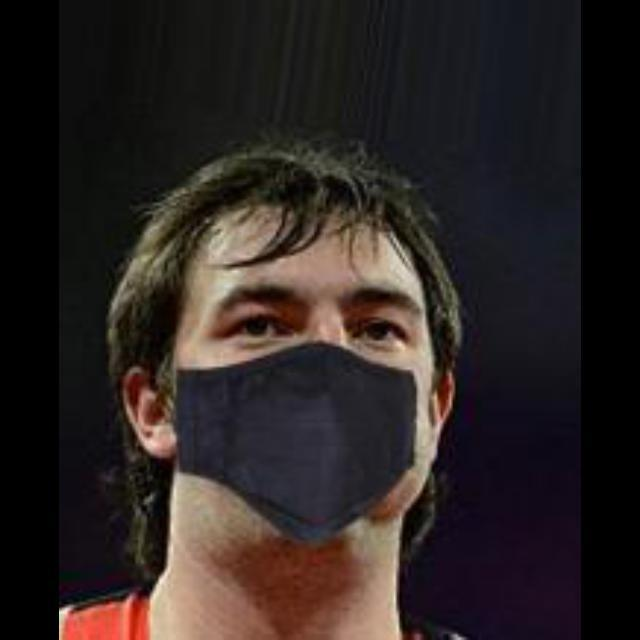suspicion: (146, 170, 477, 540)
